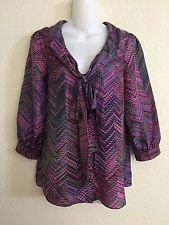C_blouse: (14, 18, 163, 214)
